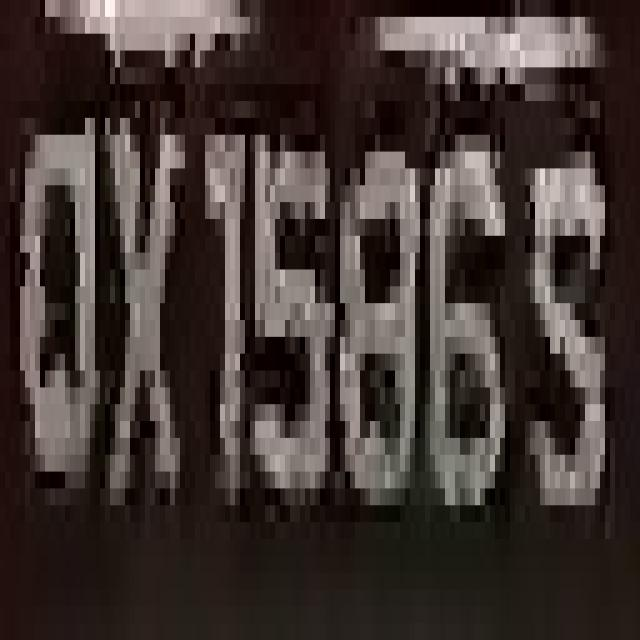1: (205, 101, 250, 488)
5: (250, 84, 335, 522)
6: (425, 101, 505, 539)
8: (340, 101, 425, 522)
Q: (25, 84, 95, 522)
S: (525, 135, 615, 556)
X: (95, 34, 185, 522)
